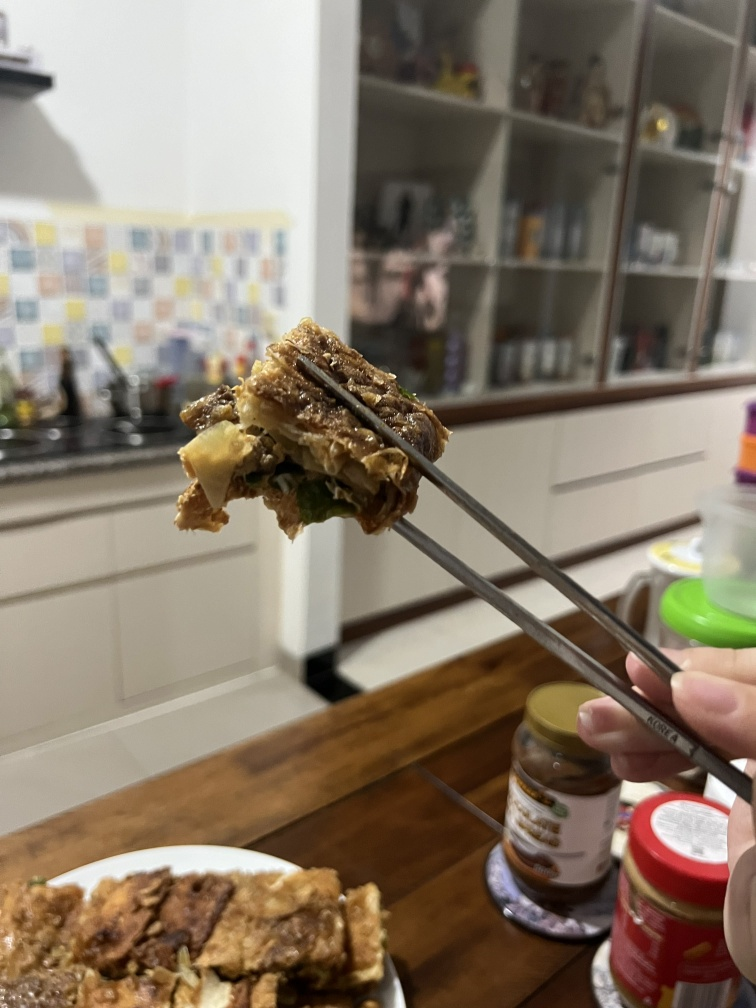martabak telor: (173, 292, 431, 537), (217, 856, 383, 988)
